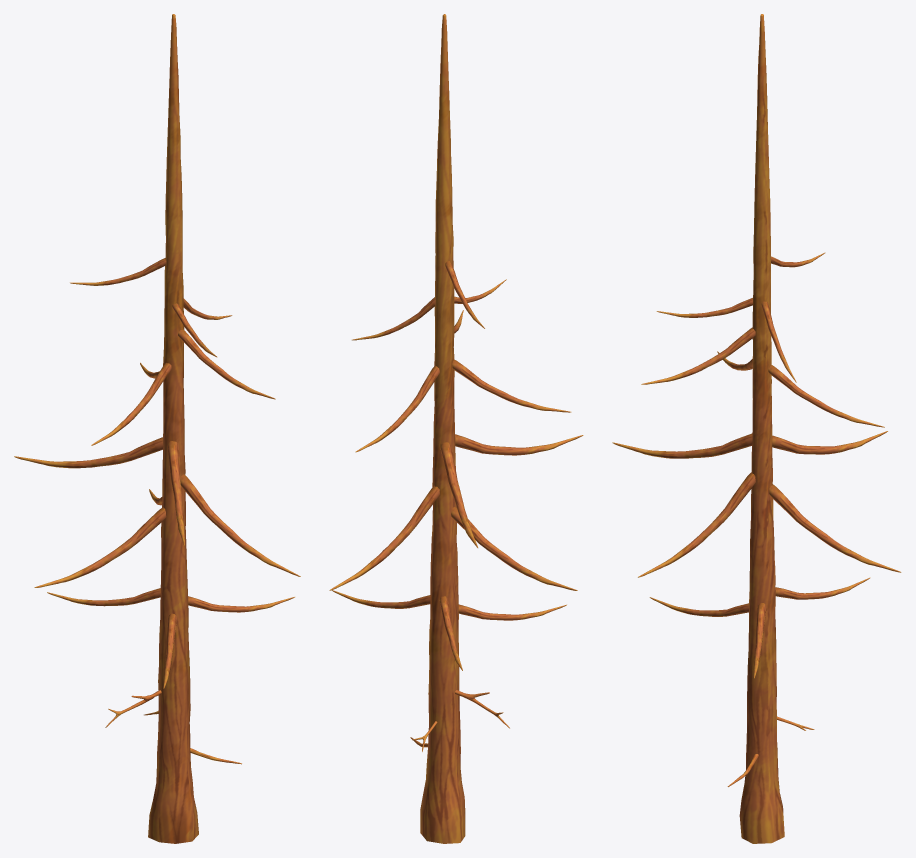
The model's file is tree_1_hb.glb.
The picture shows the model from 3 angles, left to right: view 1: azimuth 30°, elevation 25°; view 2: azimuth 150°, elevation 25°; view 3: azimuth 270°, elevation 25°; orthographic projection.
Parts seen in each view (by area): view 1: hit_box; view 2: hit_box; view 3: hit_box.
Part boxes in pixels (<box>): hit_box: <box>14,14,300,843</box>; hit_box: <box>329,14,583,843</box>; hit_box: <box>612,14,901,843</box>.
Size of the model in its own units: 4.63 by 14.33 by 4.58.
Materials: 1 (1 with a texture image).
